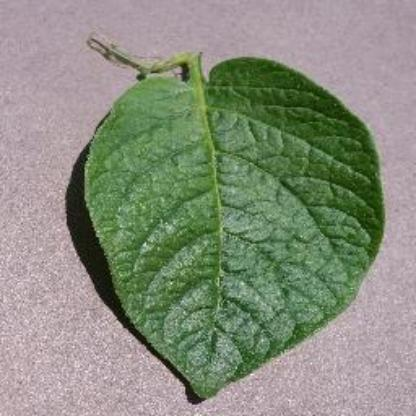Healthy-plant: (78, 38, 388, 396)
